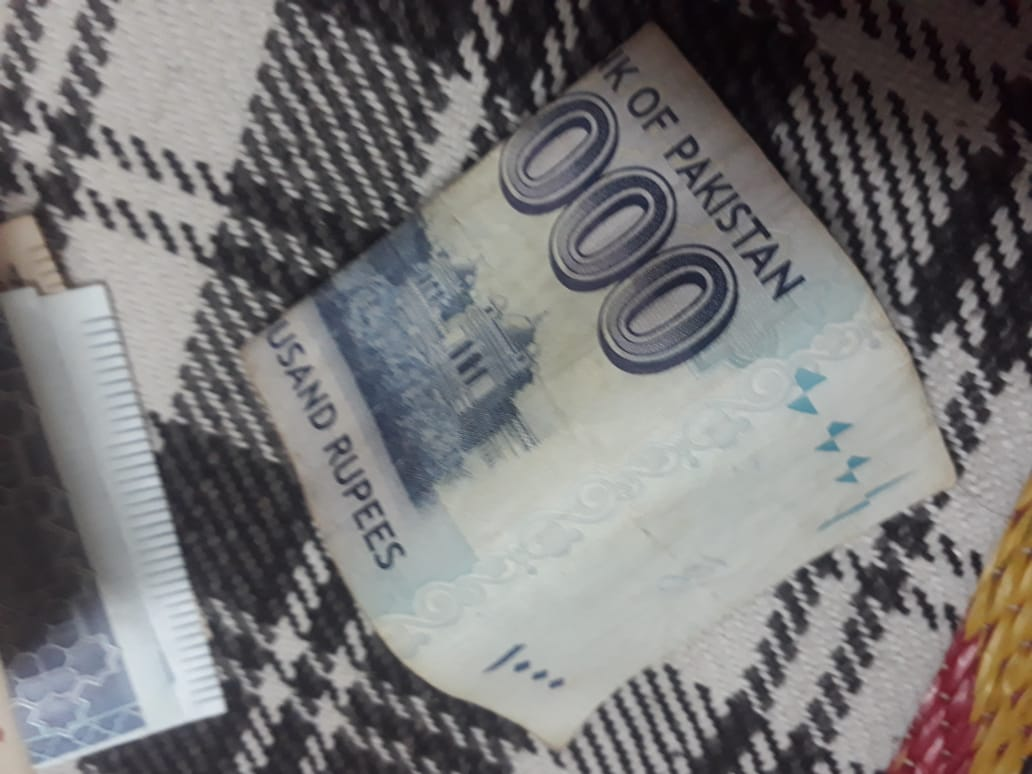1000 rupee: (231, 31, 969, 725)
